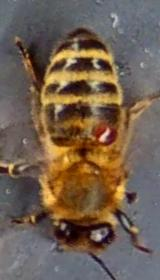varroa_mite: (82, 115, 130, 151)
